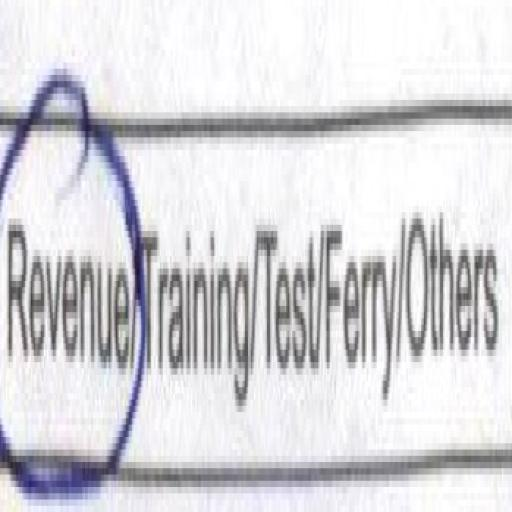check: (0, 44, 132, 506)
